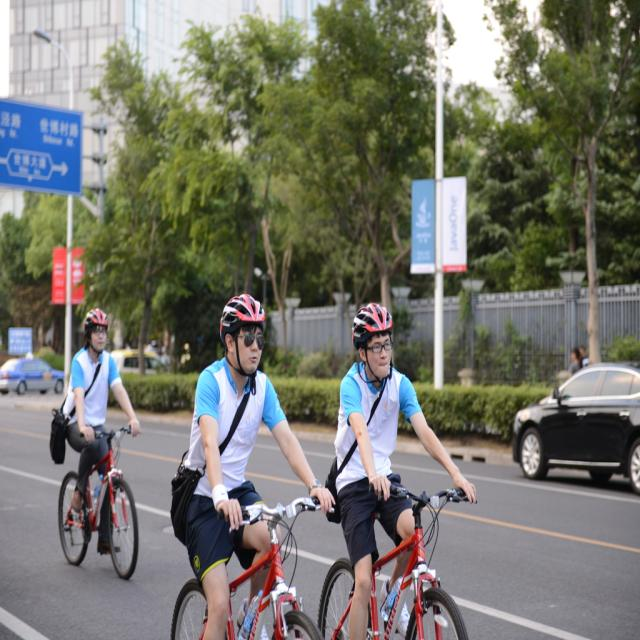car: (0, 346, 67, 397)
